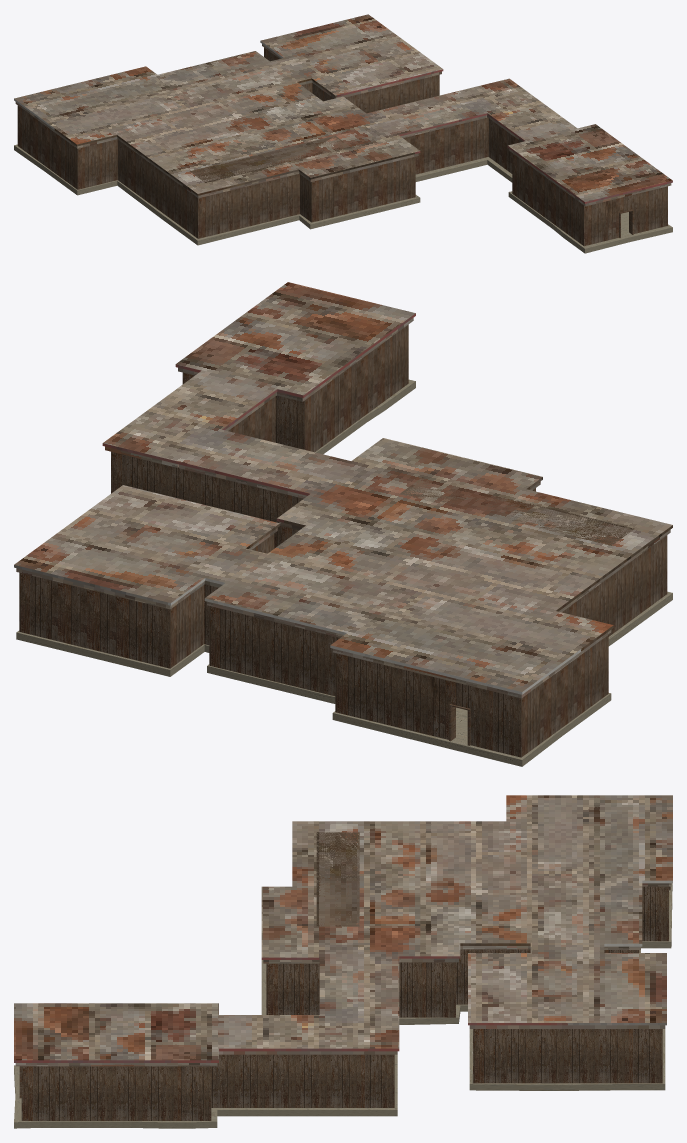
The model's file is laboratory_wood.glb.
3 views of the same model, one above another, from view 1: azimuth 30°, elevation 25°; view 2: azimuth 150°, elevation 25°; view 3: azimuth 270°, elevation 25° (orthographic). The views are drawn at different scales.
Parts seen in each view (by area): view 1: laboratory_wood; view 2: laboratory_wood; view 3: laboratory_wood.
Boxes of the visible parts, bbox=[...] form: laboratory_wood: bbox=[14, 14, 672, 253]; laboratory_wood: bbox=[14, 282, 672, 766]; laboratory_wood: bbox=[14, 795, 672, 1128].
Size of the model in its own units: 41 by 4.92 by 43.1.
Materials: 1 (1 with a texture image).
